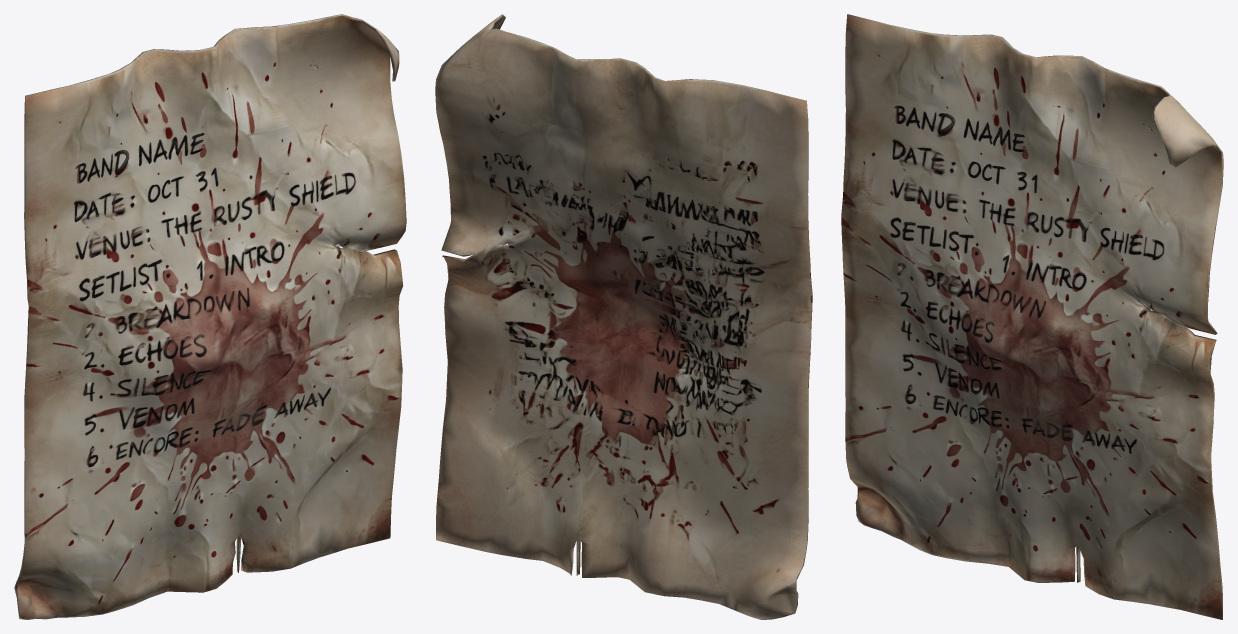
File: Prop_Setlist_01.glb
3 renders of one model, left to right at view 1: azimuth 30°, elevation 25°; view 2: azimuth 150°, elevation 25°; view 3: azimuth 330°, elevation 25°, orthographic. The views are drawn at different scales.
Parts seen in each view (by area): view 1: mesh_node; view 2: mesh_node; view 3: mesh_node.
Boxes of the visible parts, left/top/right/bottom form: mesh_node: left=14, top=14, right=406, bottom=619; mesh_node: left=435, top=14, right=812, bottom=619; mesh_node: left=841, top=14, right=1223, bottom=619.
Size of the model in its own units: 1.44 by 1.98 by 0.2696.
1 material, 1 textured.
